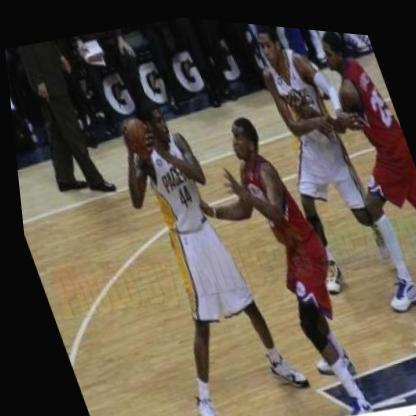basketball: (109, 108, 154, 154)
